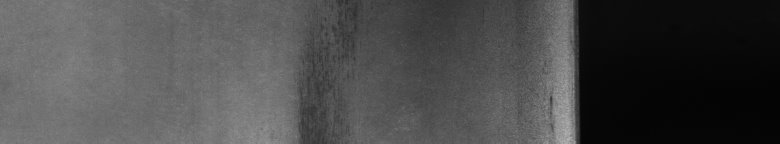ka: (292, 11, 357, 136)
